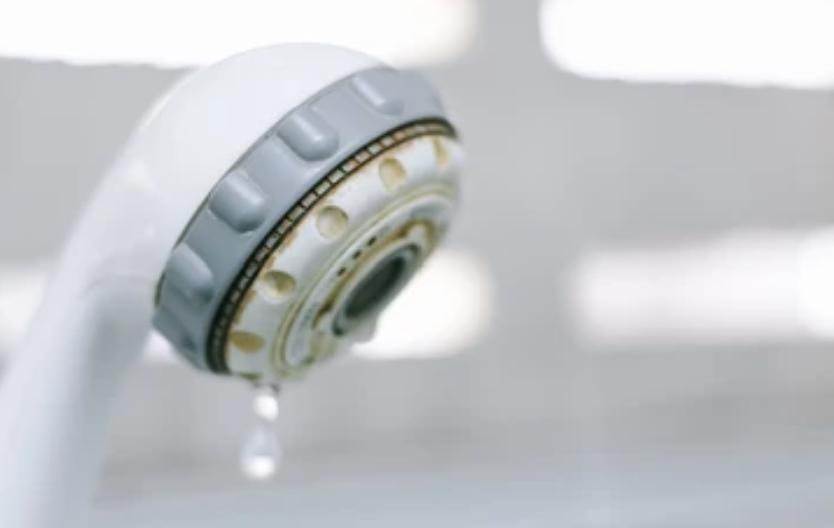water drop: (241, 378, 282, 481)
